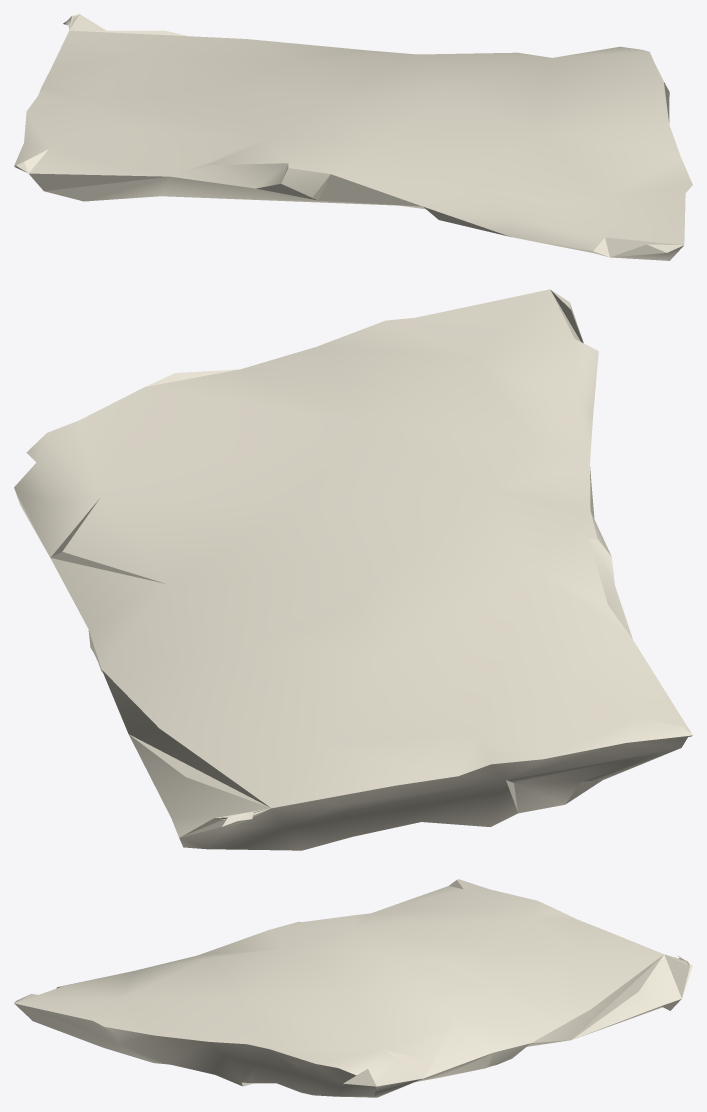
Rendered from fma44503_mm1371m.glb.
The picture shows the model from 3 angles, top to bottom: view 1: azimuth 30°, elevation 25°; view 2: azimuth 150°, elevation 25°; view 3: azimuth 270°, elevation 25°; orthographic projection. The views are drawn at different scales.
Visible parts, largest first — view 1: FMA44503_MM1371M; view 2: FMA44503_MM1371M; view 3: FMA44503_MM1371M.
Part boxes in pixels (x1,y1,x2,y2): FMA44503_MM1371M: (14,14,692,260); FMA44503_MM1371M: (14,289,692,850); FMA44503_MM1371M: (14,879,692,1097).
Size of the model in its own units: 0.00911 by 0.00169 by 0.012.
